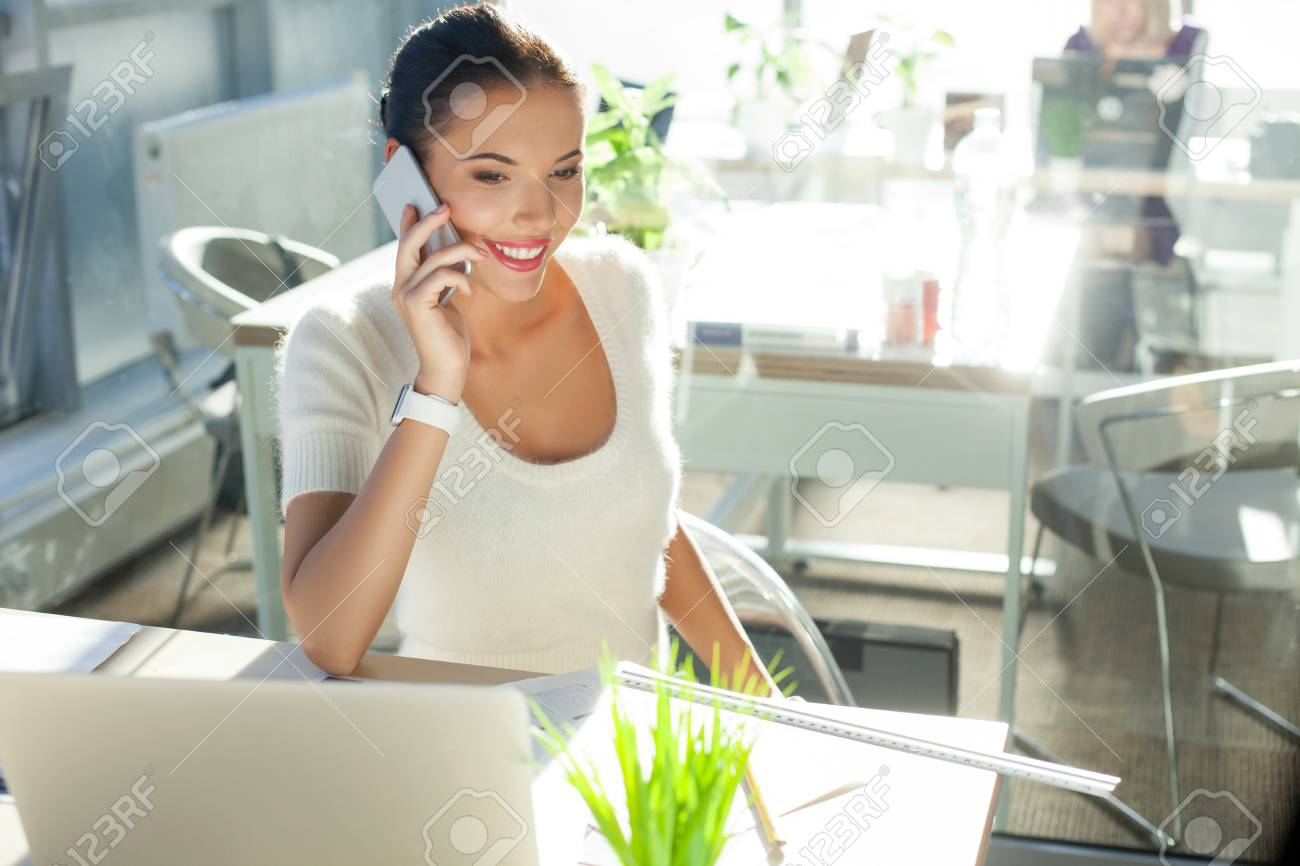phone: (372, 153, 470, 329)
talk: (362, 137, 591, 356)
